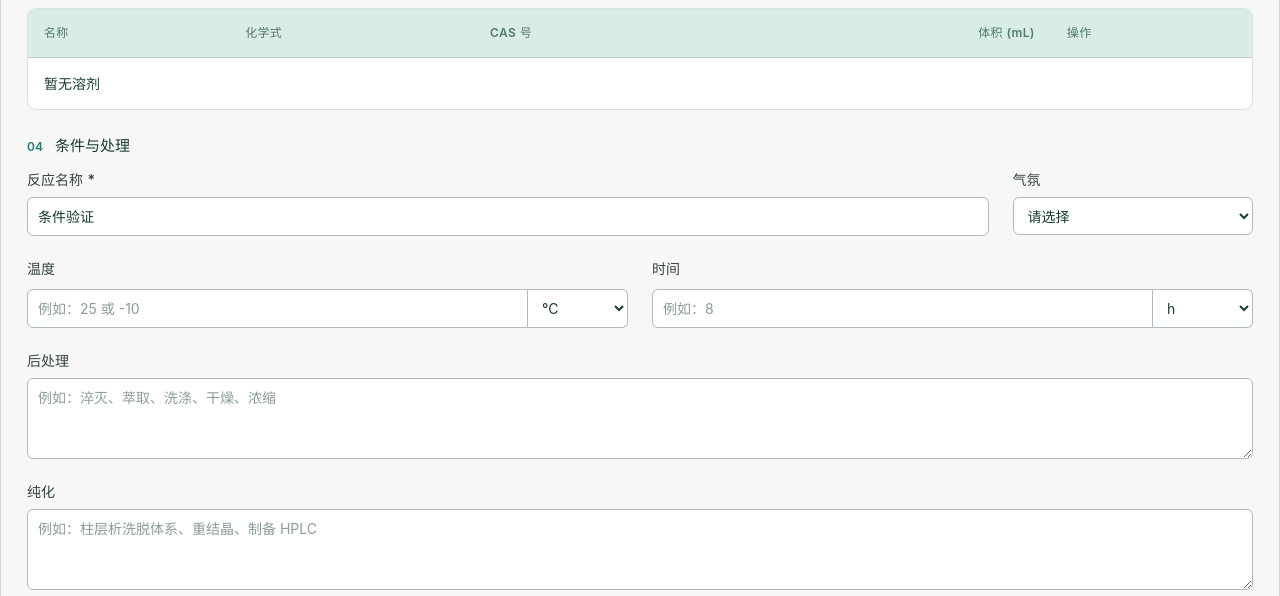
Scenario: sample and reaction workflows › shows rejected condition fields beside save and preserves input for retry
(page scrolled)
Type "25.123456789" into the number field named "温度 °C".
click(278, 309); type("25.123456789")  # box [27,289,528,328]
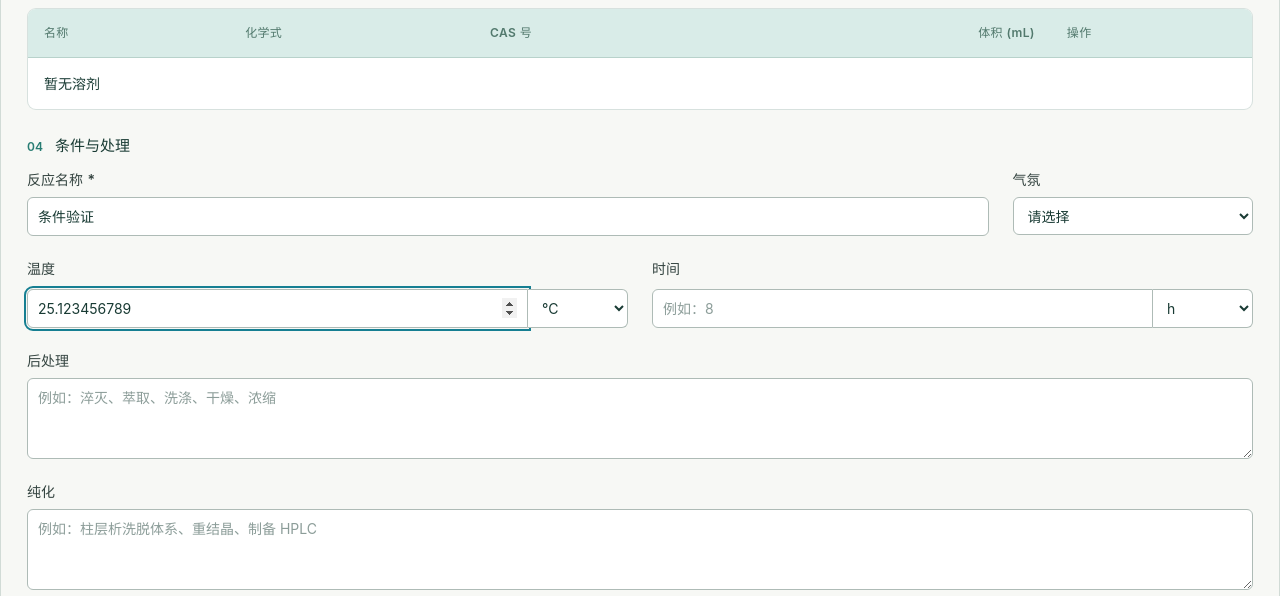
Type "浓缩" into the text box labelled "后处理".
click(640, 419); type("浓缩")  # box [27,378,1253,459]
(page scrolled)
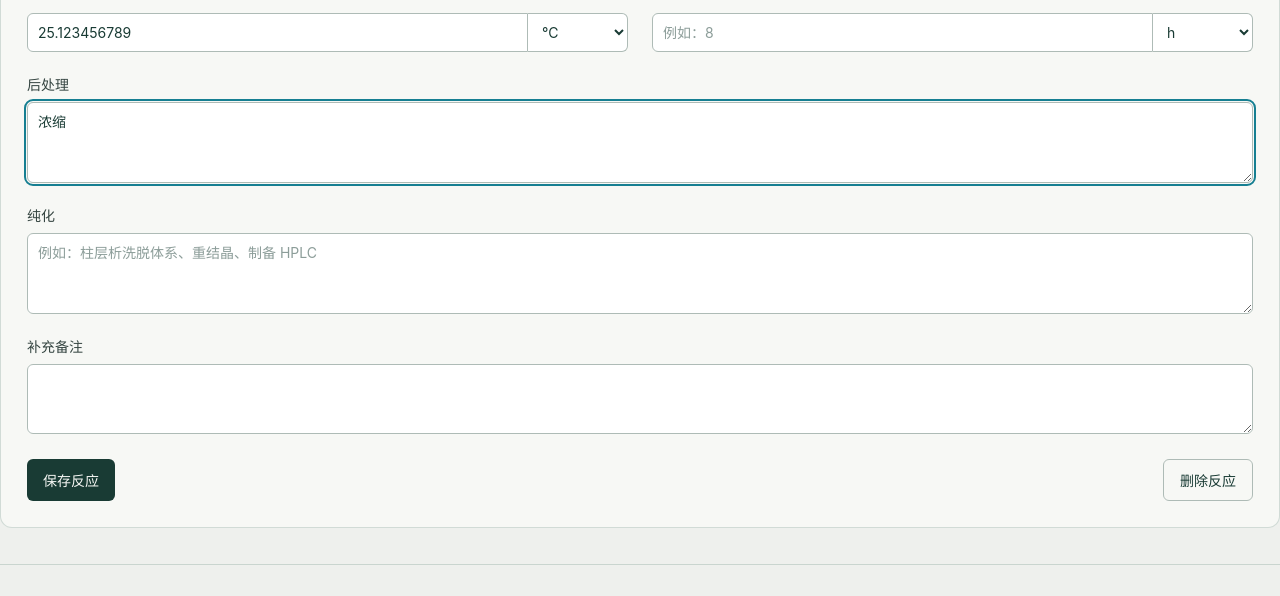
Click the button "保存反应".
click(71, 480)  # box [27,459,115,501]
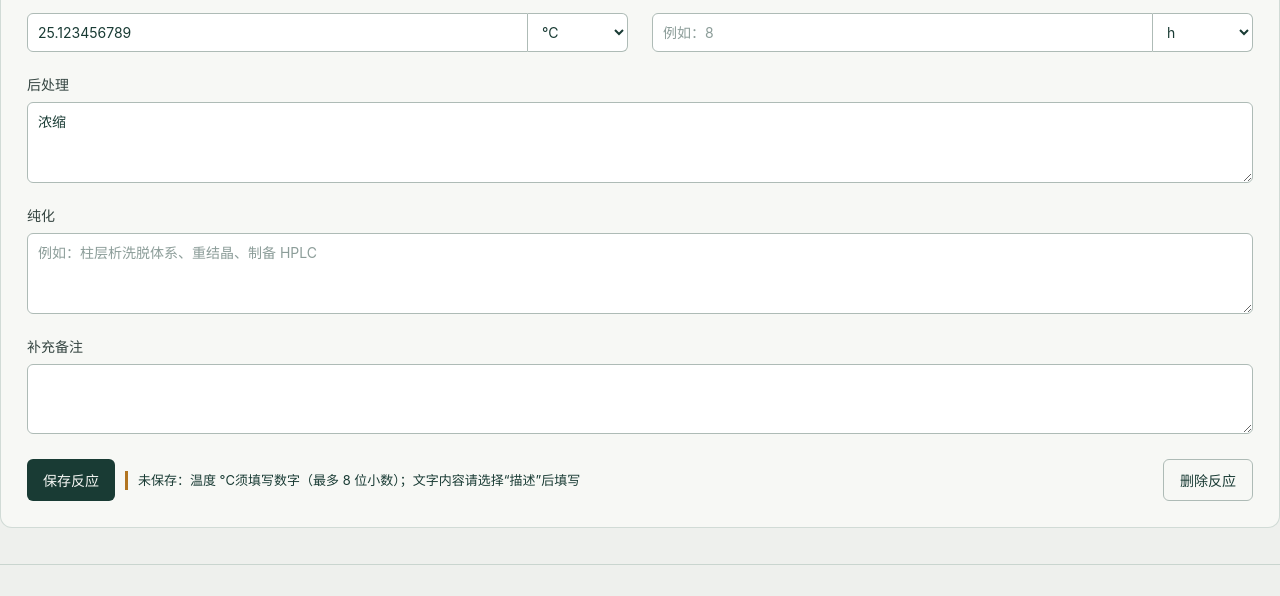
Expected: the message shows "未保存：温度 °C须填写数字", [138,472,580,488]
Replace the text in the number field named "温度 °C" with "25" at (278, 33), box [27,13,528,52]
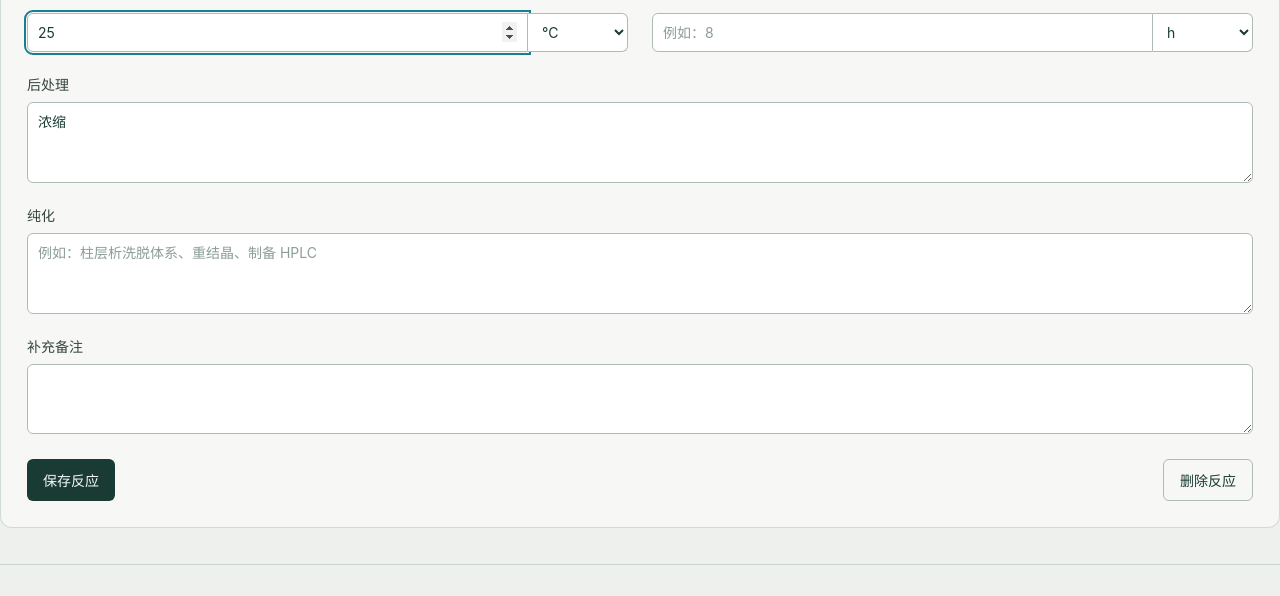
Click the button "保存反应".
click(71, 480)  # box [27,459,115,501]
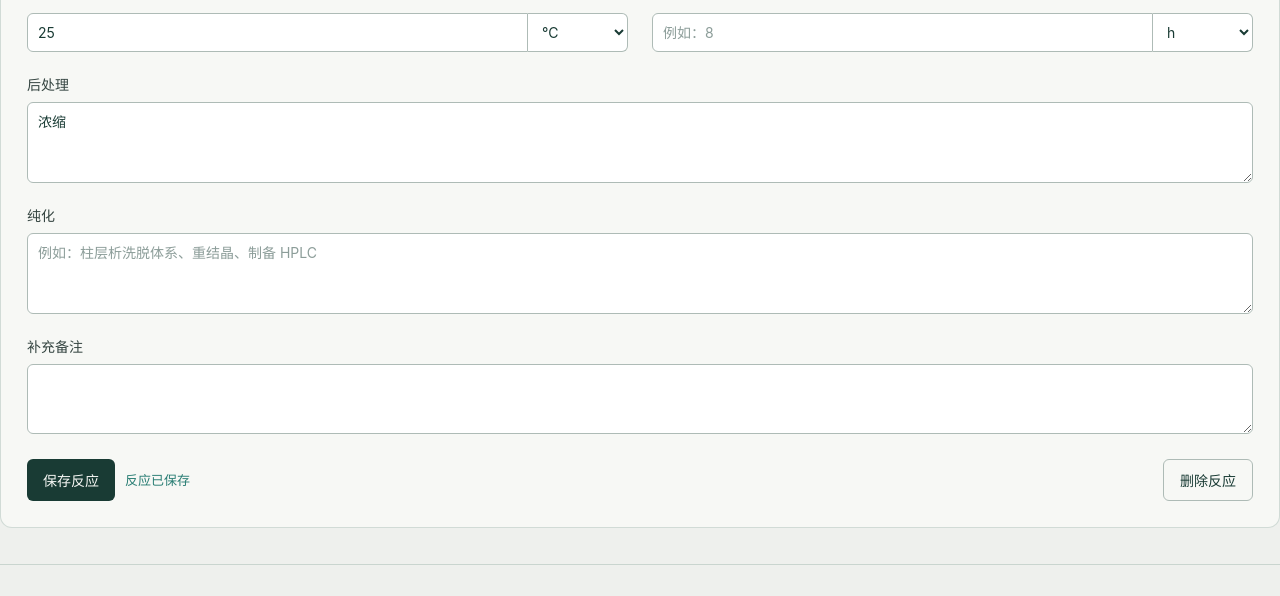
Expected: the text "反应已保存" is shown, [125,471,190,490]
